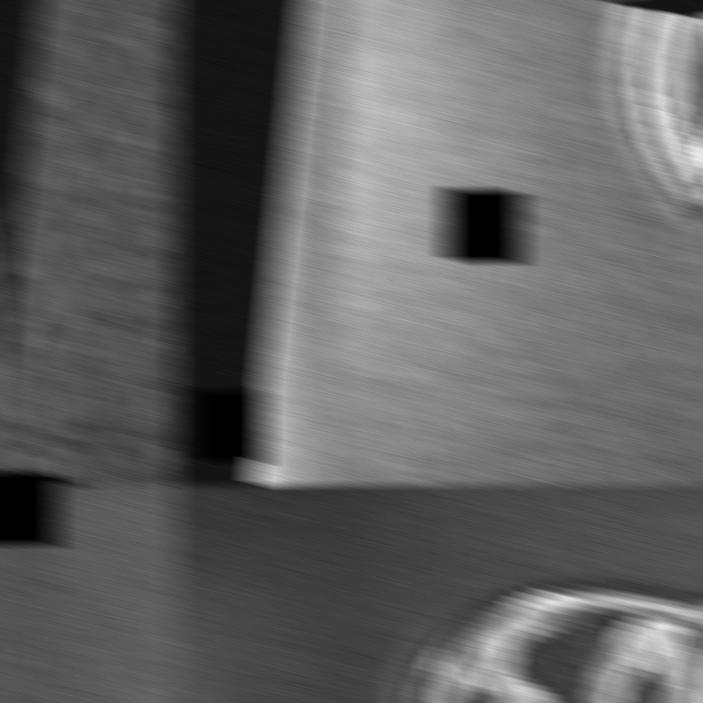AirbagV2: (234, 0, 703, 486), (169, 484, 703, 703), (0, 0, 180, 486), (0, 484, 180, 703)
